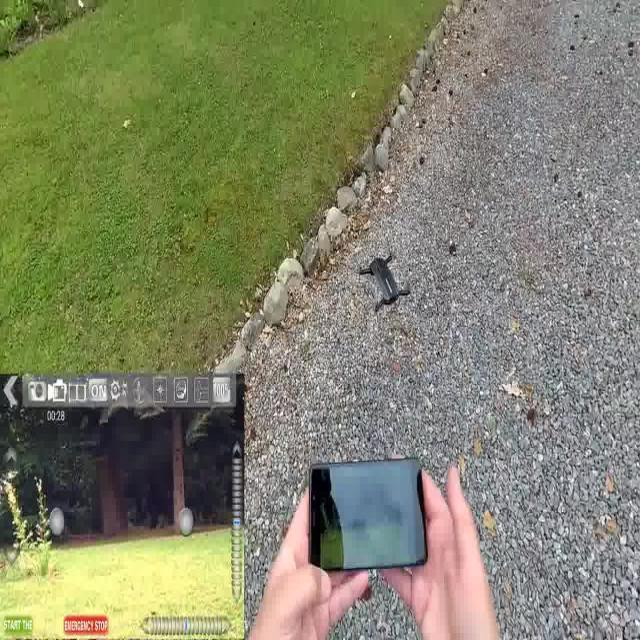drone: (356, 245, 416, 318)
